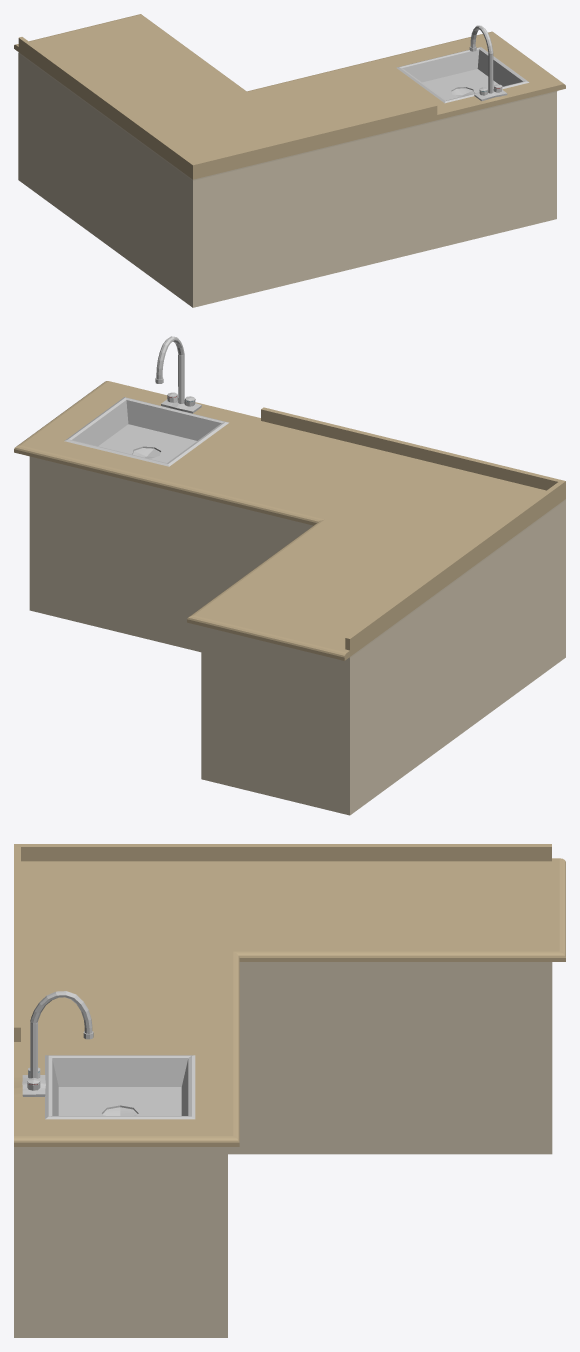
File: Counter.fbx
3 renders of one model, top to bottom at view 1: azimuth 30°, elevation 25°; view 2: azimuth 150°, elevation 25°; view 3: azimuth 270°, elevation 25°, orthographic. The views are drawn at different scales.
Visible parts, largest first — view 1: Counter; view 2: Counter; view 3: Counter.
Boxes of the visible parts, bbox=[...] form: Counter: bbox=[14, 14, 565, 307]; Counter: bbox=[14, 336, 565, 815]; Counter: bbox=[14, 844, 565, 1337].
Bounding box in the file's own units: 369 × 185 × 306.
